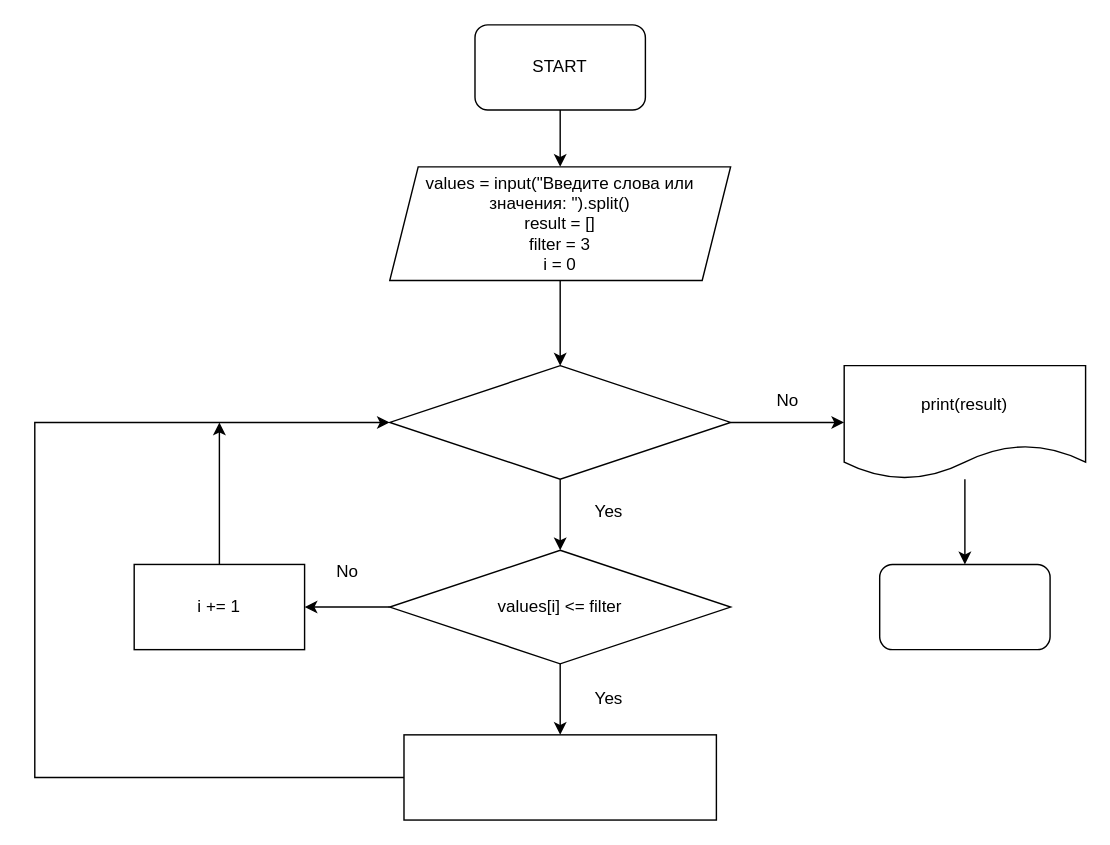
Image size: 1110x845. Some labels were removed from this diagram. The shapes that lost their labels are listed below. From the top down, each one's box as (x1, y1, x2, y2) in pixels, then its label:
(388, 364, 731, 479): i < len(values)
(878, 563, 1050, 650): END
(403, 733, 716, 820): result.append(values[i]) i += 1
